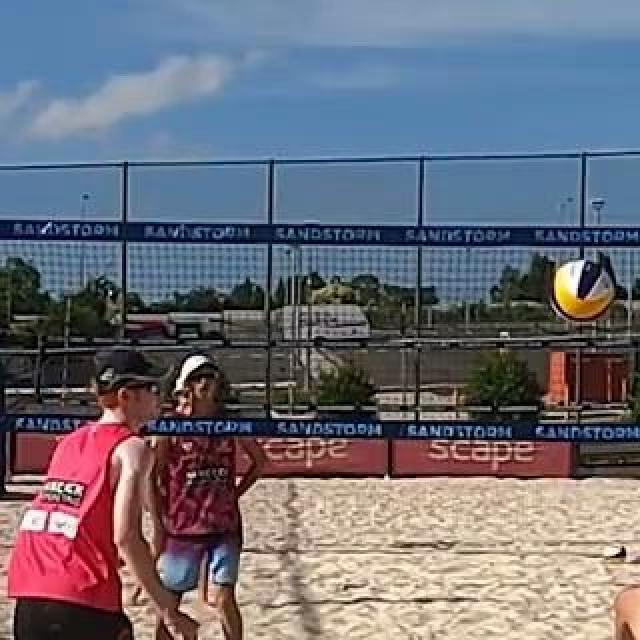volleyball: (551, 259, 613, 321), (604, 545, 626, 567)
